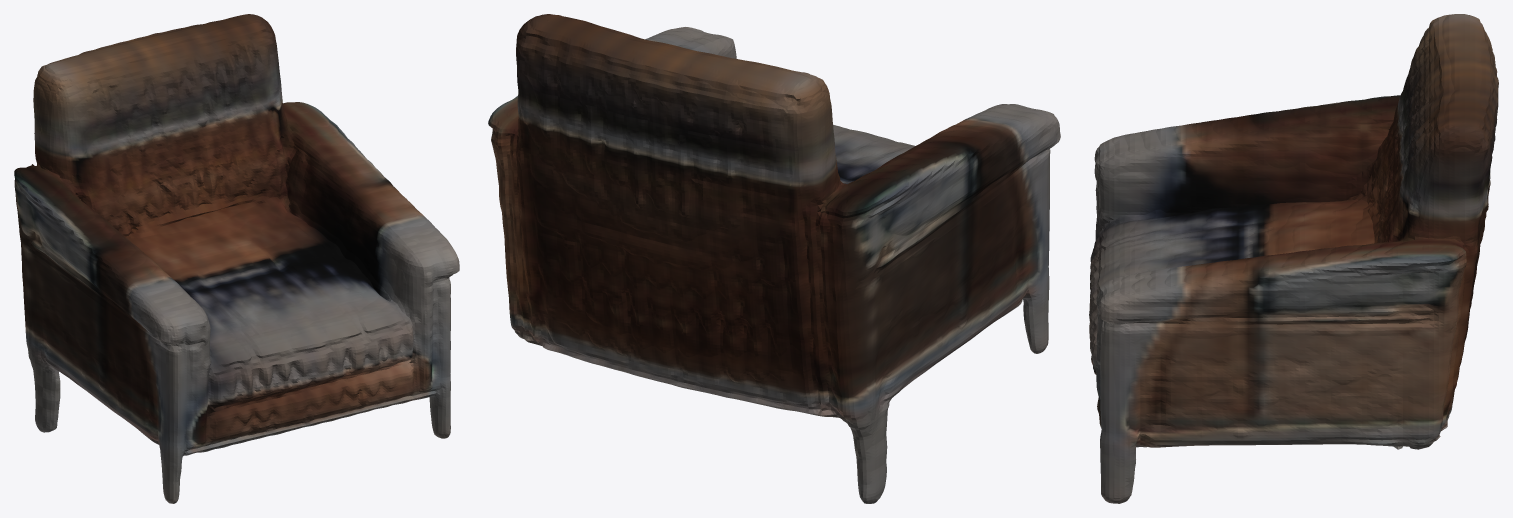
File: chair-002.glb
3 views of the same model, side by side, from view 1: azimuth 30°, elevation 25°; view 2: azimuth 150°, elevation 25°; view 3: azimuth 270°, elevation 25° (orthographic). The views are drawn at different scales.
Visible parts, largest first — view 1: geometry_0; view 2: geometry_0; view 3: geometry_0.
Boxes of the visible parts, bbox=[...] form: geometry_0: bbox=[14, 14, 459, 503]; geometry_0: bbox=[488, 14, 1060, 503]; geometry_0: bbox=[1089, 14, 1498, 503].
Bounding box in the file's own units: 82 × 88 × 85.
